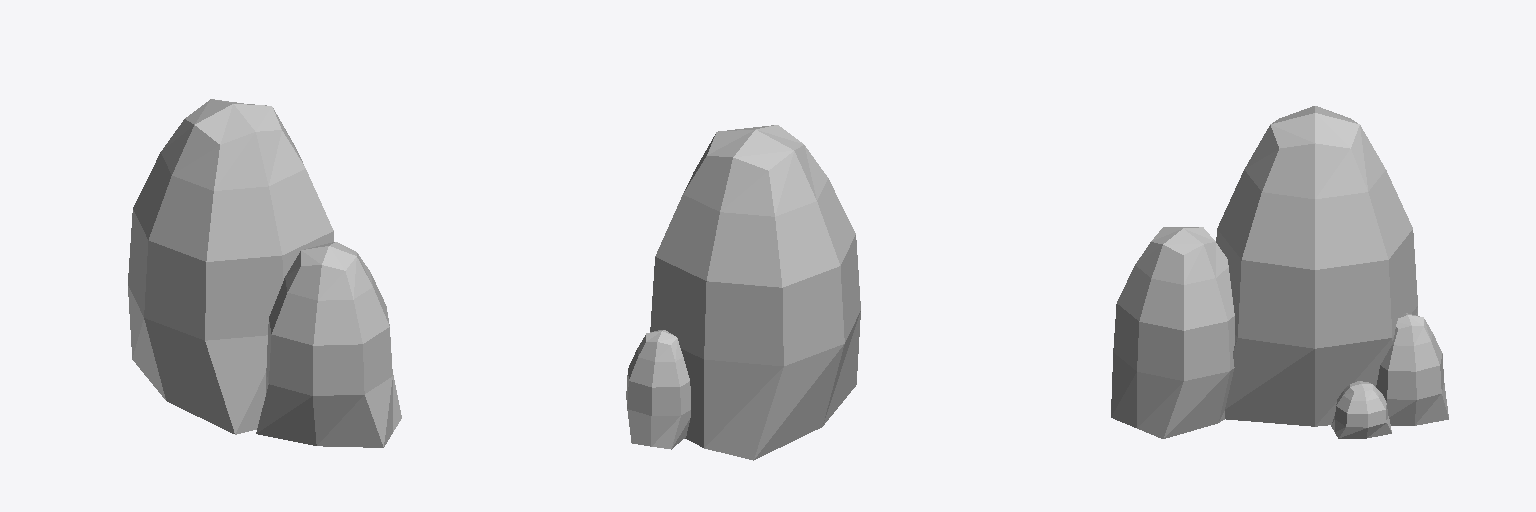
The model's file is rocks.obj.
The picture shows the model from 3 angles: view 1: azimuth 30°, elevation 25°; view 2: azimuth 150°, elevation 25°; view 3: azimuth 270°, elevation 25°; orthographic projection.
Parts seen in each view (by area): view 1: pCube5; view 2: pCube5; view 3: pCube5.
Part boxes in pixels (x1,y1,x2,y2): pCube5: (128, 99, 401, 447); pCube5: (626, 125, 860, 460); pCube5: (1111, 106, 1448, 438).
Size of the model in its own units: 1.06 by 1.51 by 1.64.